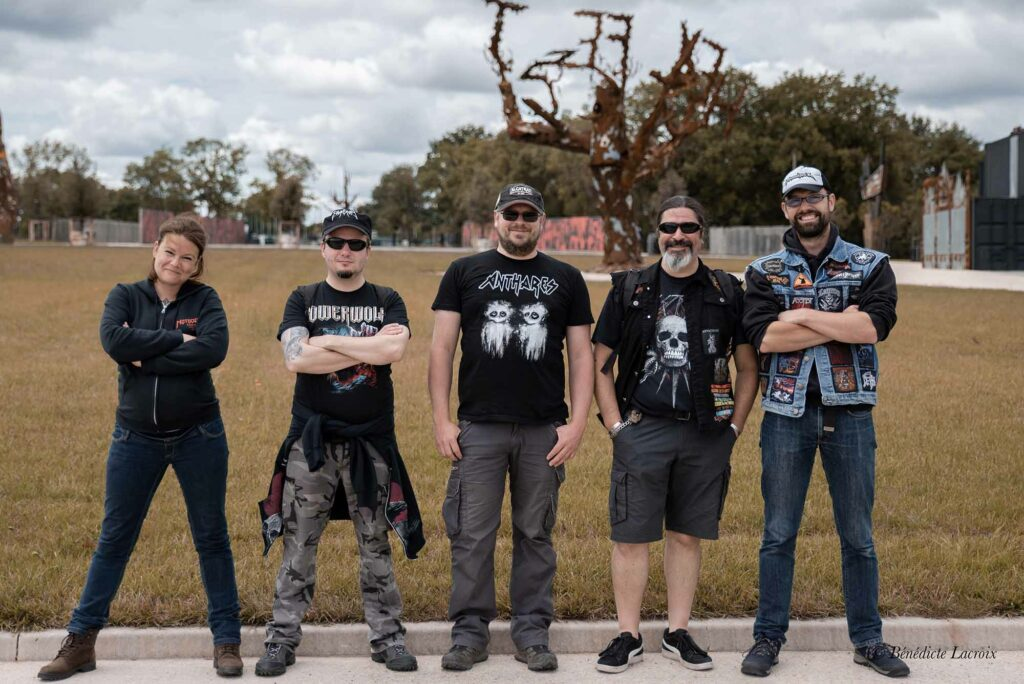without_mask: (153, 233, 195, 282), (661, 213, 701, 262), (785, 190, 834, 230), (325, 234, 367, 276), (498, 210, 542, 248)
